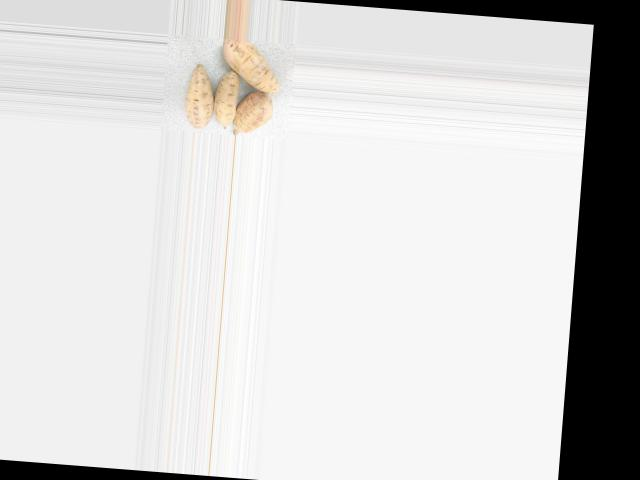sweet_potato: (213, 37, 288, 94)
